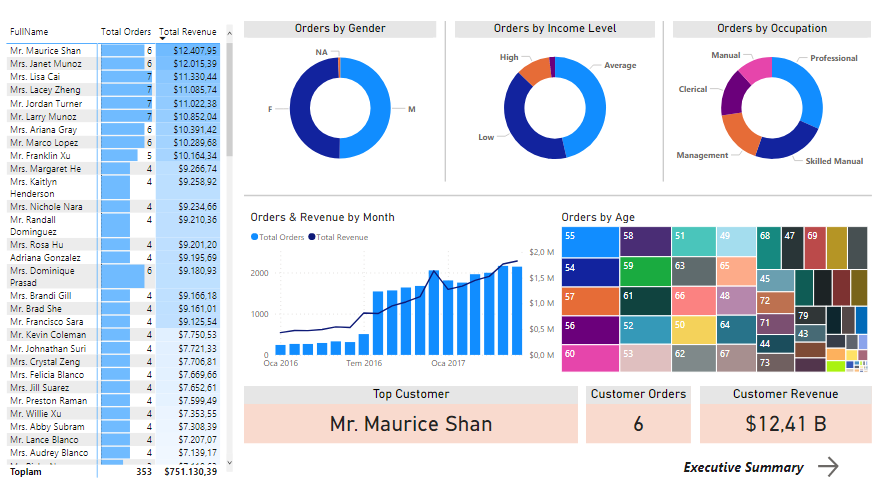

The dashboard page shown, as its layout file describes it:
{"tool":"powerbi","page":{"name":"Customer Detail","canvas":[1280,720],"ordinal":2},"visuals":[{"type":"pivotTable","fields":{"Rows":["AW_Customer_Lookup.FullName"],"Values":["AW_Sales.Total Orders","AW_Sales.Total Revenue"]},"box":[11.8,42,337.6,666.9],"z":0},{"type":"donutChart","title":"Orders by Gender","fields":{"Y":["AW_Sales.Total Orders"],"Category":["AW_Customer_Lookup.Gender"]},"box":[360.7,41.7,278.8,232.8],"z":1000},{"type":"donutChart","title":"Orders by Income Level","fields":{"Y":["AW_Sales.Total Orders"],"Category":["AW_Customer_Lookup.IncomeLevel"]},"box":[666.1,41.7,290.3,232.8],"z":2000},{"type":"donutChart","title":"Orders by Occupation","fields":{"Y":["AW_Sales.Total Orders"],"Category":["AW_Customer_Lookup.Occupation"]},"box":[983,41.7,287.4,232.8],"z":3000},{"type":"shape","box":[360.7,274.5,909.7,41.7],"z":4000},{"type":"shape","box":[639.5,41.7,27.3,232.8],"z":5000},{"type":"shape","box":[955.7,41.7,27.3,232.8],"z":6000},{"type":"lineClusteredColumnComboChart","title":"Orders & Revenue by Month","fields":{"Y":["AW_Sales.Total Orders"],"Category":["AW_Calendar_Lookup.Ay Başı"],"Y2":["AW_Sales.Total Revenue"]},"box":[365,316.2,451.3,240],"z":7000},{"type":"treemap","title":"Orders by Age","fields":{"Values":["AW_Sales.Total Orders"],"Group":["AW_Customer_Lookup.Current Age"]},"box":[816.3,316.2,454.1,240],"z":8000},{"type":"card","title":"Top Customer","fields":{"Values":["AW_Customer_Lookup.FullName"]},"box":[360.7,570.5,484.3,83.4],"z":9000},{"type":"card","title":"Customer Orders","fields":{"Values":["AW_Sales.Total Orders"]},"box":[857.2,570.5,152.3,83.4],"z":10000},{"type":"card","title":"Customer Revenue","fields":{"Values":["AW_Sales.Total Revenue"]},"box":[1021.8,570.5,248.6,83.4],"z":11000},{"type":"textbox","box":[993.1,669.7,218.4,38.8],"z":12000},{"type":"actionButton","box":[1187.1,668.3,48.9,40.2],"z":13000}]}

Visuals, with their boxes in screenshot pixels (x1, y1, x2, y2), scaled from the page's 1280x720 canvas onto the 877x486 screenshot:
pivotTable - AW_Customer_Lookup.FullName x AW_Sales.Total Orders: (x1=8, y1=28, x2=239, y2=479)
"Orders by Gender" donutChart: (x1=247, y1=28, x2=438, y2=185)
"Orders by Income Level" donutChart: (x1=456, y1=28, x2=655, y2=185)
"Orders by Occupation" donutChart: (x1=674, y1=28, x2=870, y2=185)
shape: (x1=247, y1=185, x2=870, y2=213)
shape: (x1=438, y1=28, x2=457, y2=185)
shape: (x1=655, y1=28, x2=674, y2=185)
"Orders & Revenue by Month" lineClusteredColumnComboChart: (x1=250, y1=213, x2=559, y2=375)
"Orders by Age" treemap: (x1=559, y1=213, x2=870, y2=375)
"Top Customer" card: (x1=247, y1=385, x2=579, y2=441)
"Customer Orders" card: (x1=587, y1=385, x2=692, y2=441)
"Customer Revenue" card: (x1=700, y1=385, x2=870, y2=441)
textbox: (x1=680, y1=452, x2=830, y2=478)
actionButton: (x1=813, y1=451, x2=847, y2=478)
